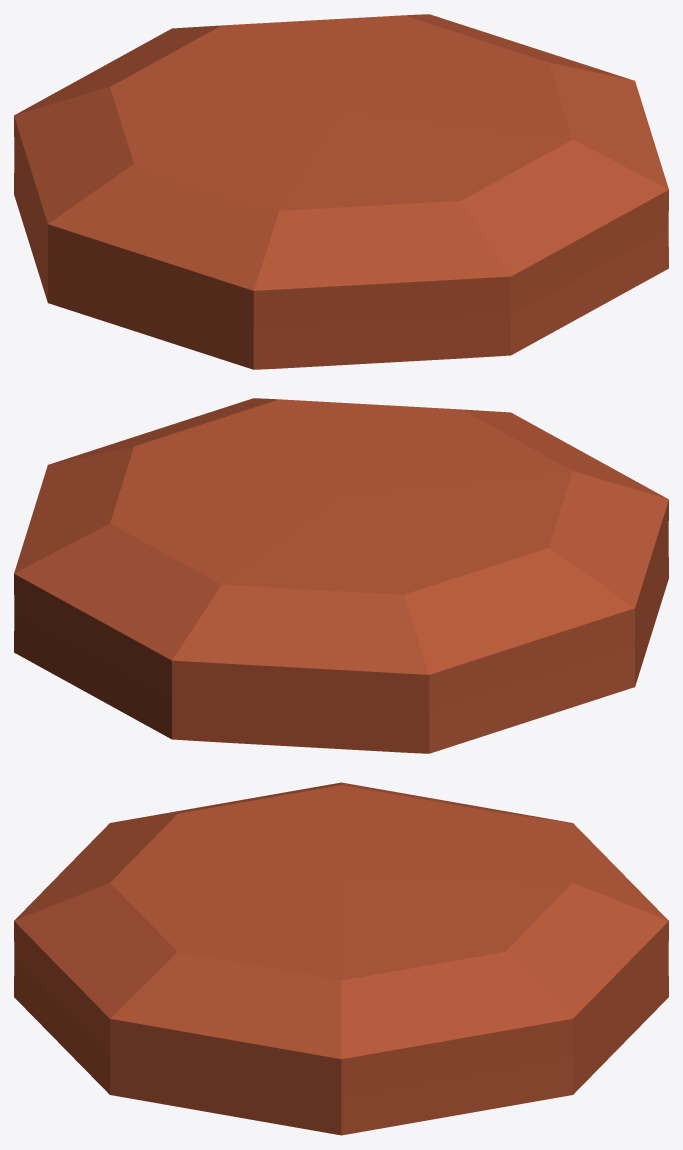
The model's file is Hamburger.fbx.
The picture shows the model from 3 angles, top to bottom: view 1: azimuth 30°, elevation 25°; view 2: azimuth 150°, elevation 25°; view 3: azimuth 270°, elevation 25°; orthographic projection. The views are drawn at different scales.
Parts seen in each view (by area): view 1: Hamburger; view 2: Hamburger; view 3: Hamburger.
Part boxes in pixels (x1,y1,x2,y2): Hamburger: (14,14,668,369); Hamburger: (14,398,668,753); Hamburger: (14,782,668,1135).
Bounding box in the file's own units: 387 × 101 × 387.
